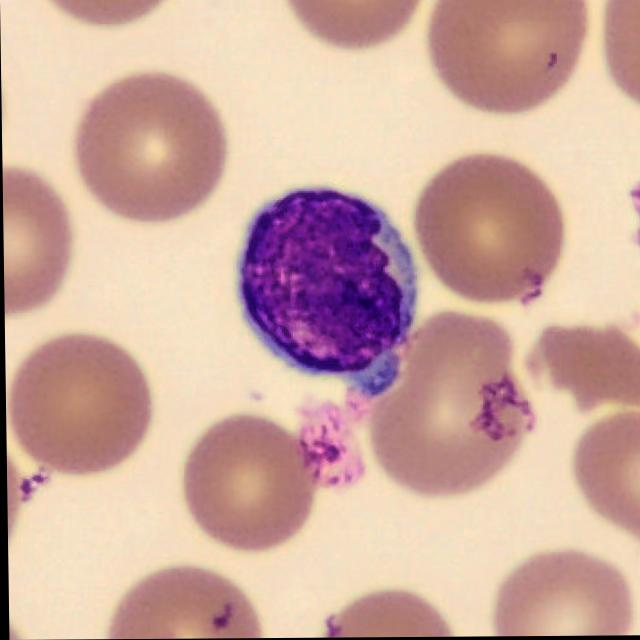Linfocito: (238, 189, 416, 375)
